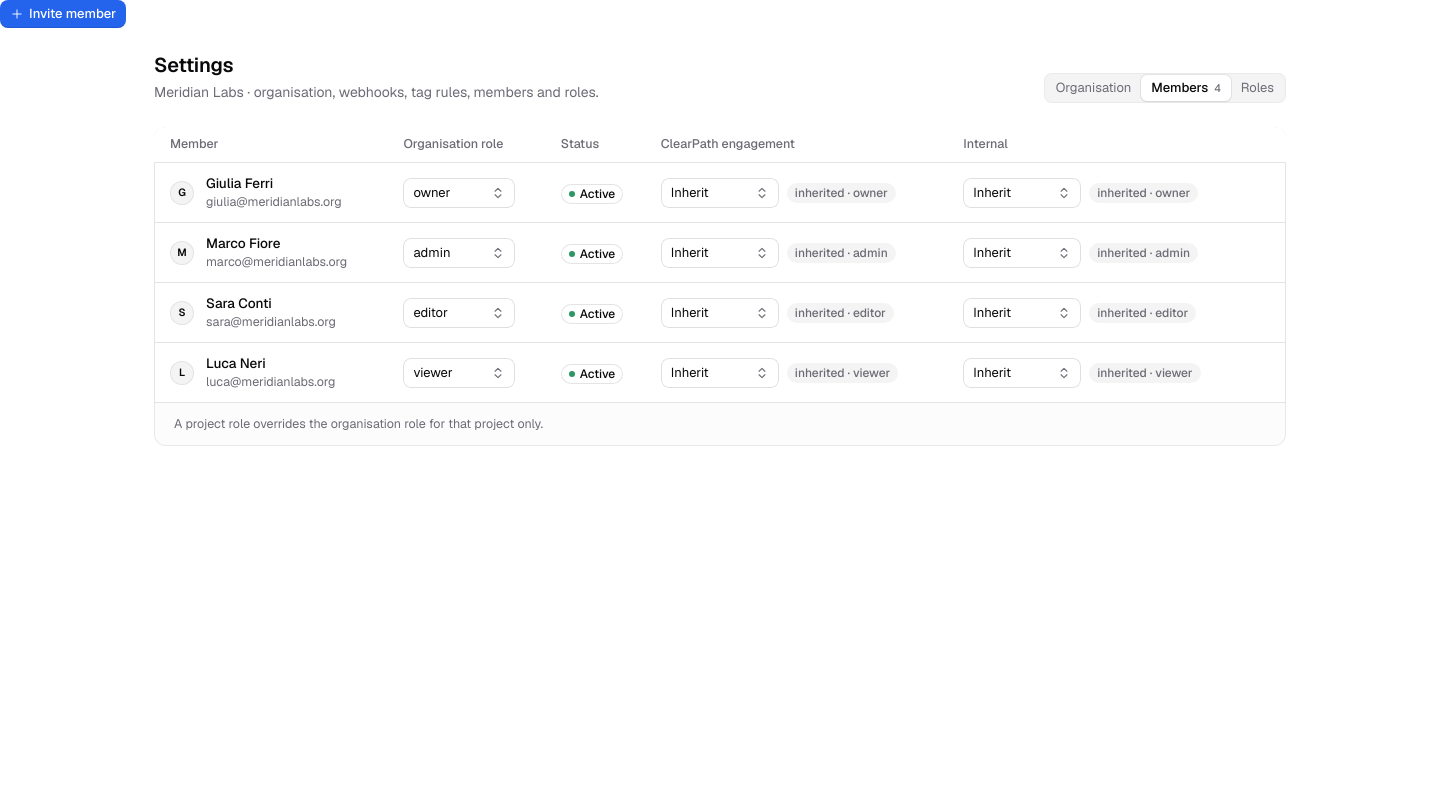
Test: Settings › Invite member › opens the invite dialog, and Cancel or Escape closes it
Expected: the text "Giulia Ferri" is shown, [206,174,273,192]
Click the button "Invite member": x=63, y=14 [0,0,126,28]
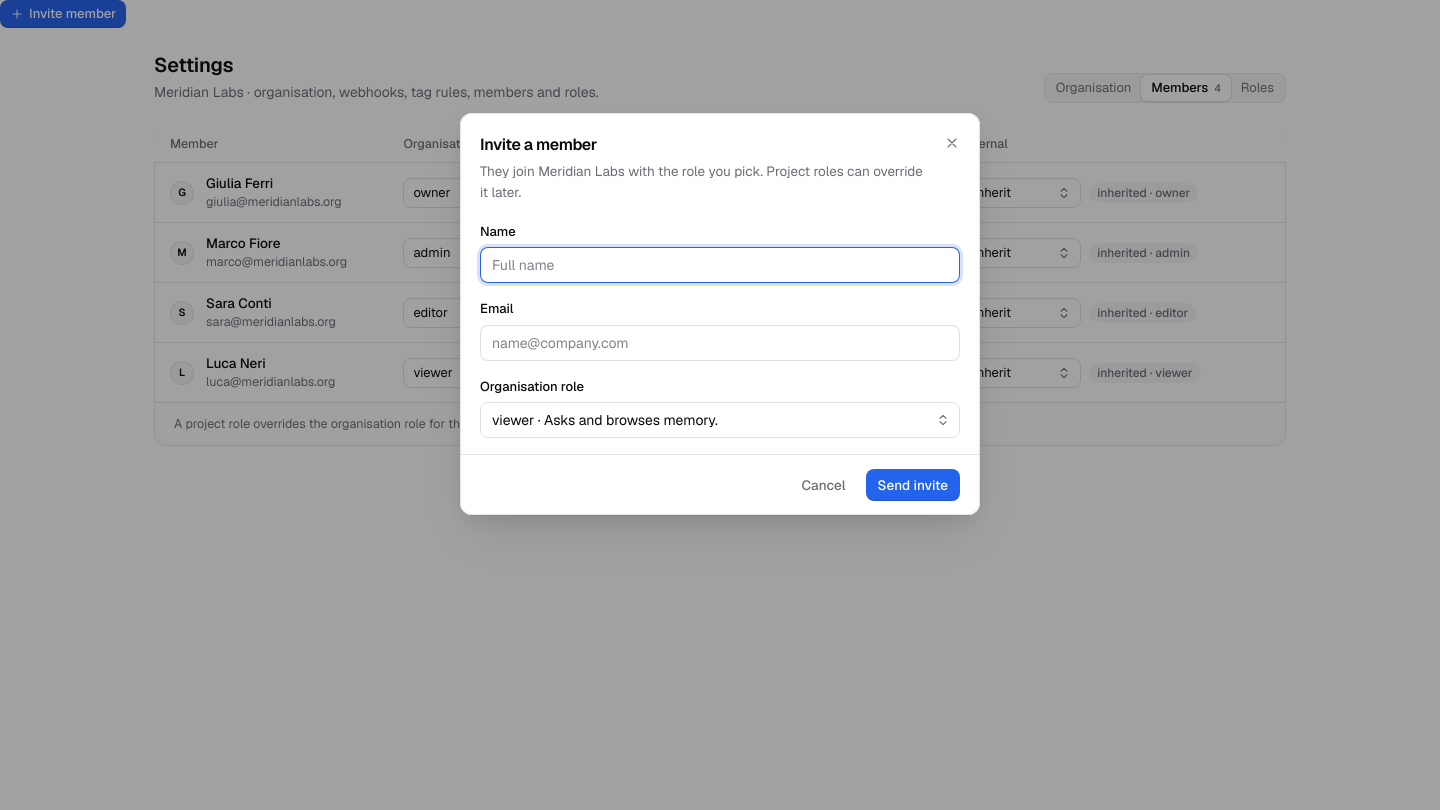
Result: the heading "Invite a member" is shown at [480,134,597,155]
Click the button "Cancel": x=824, y=485 [790,469,858,501]
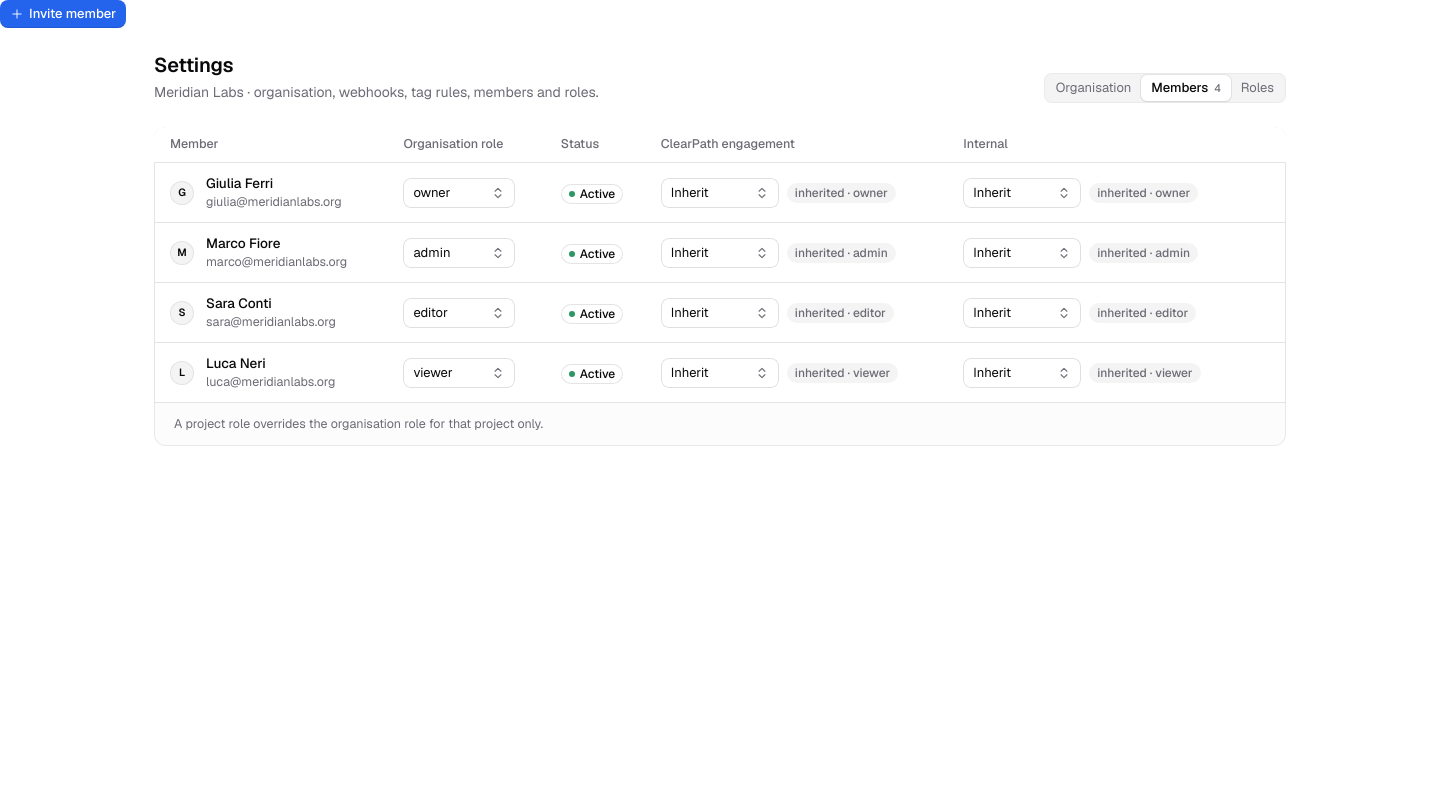
Result: the dialog is gone
Click the button "Invite member": x=63, y=14 [0,0,126,28]
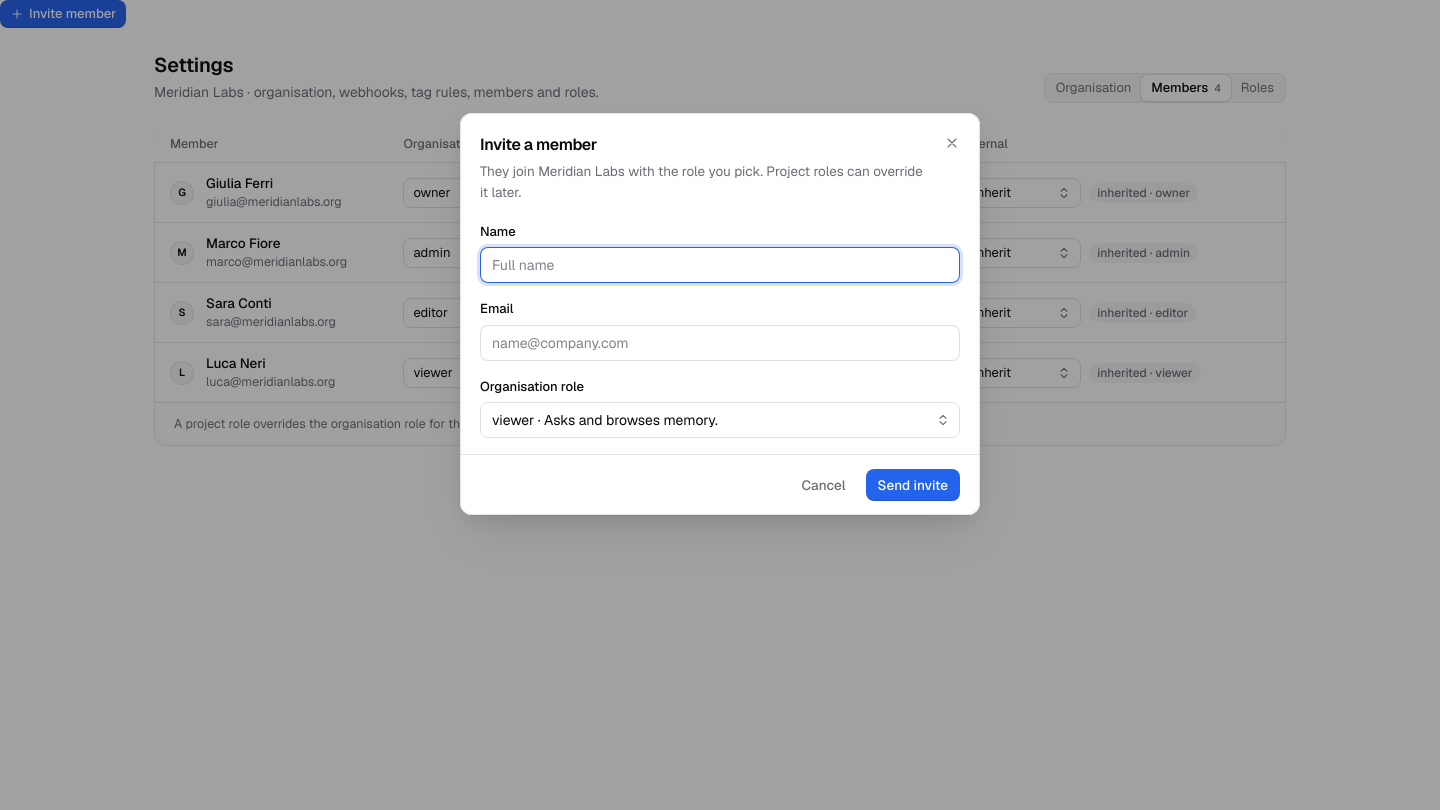
Result: the dialog is shown at [460,113,980,515]
Press Escape
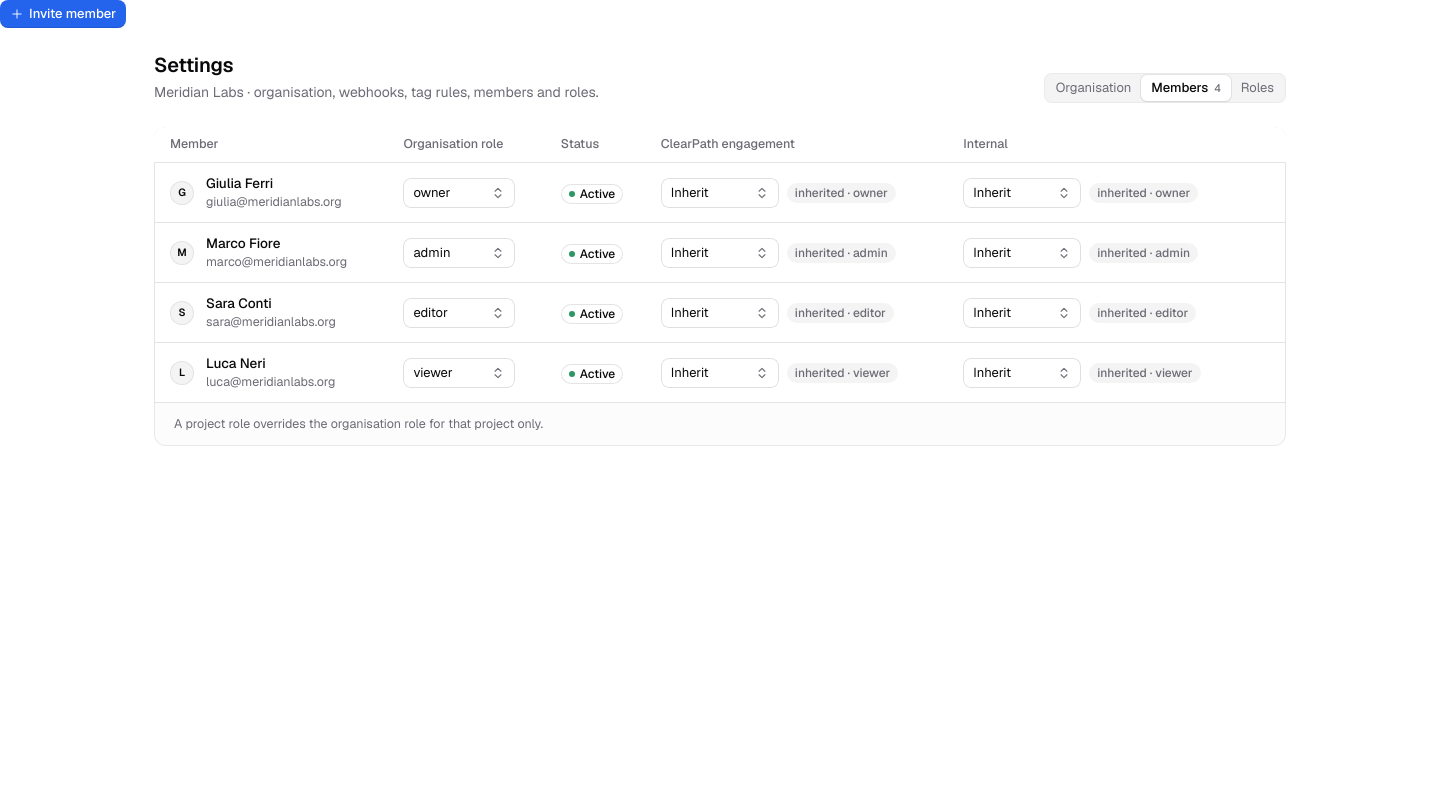
Result: the dialog is gone
